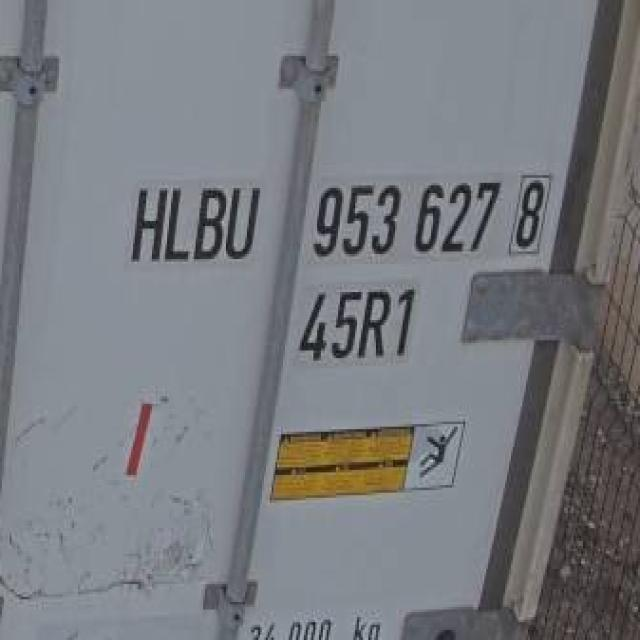dv: (508, 168, 552, 262)
owner: (125, 172, 263, 269)
serial: (308, 172, 505, 265)
size: (300, 281, 419, 362)
